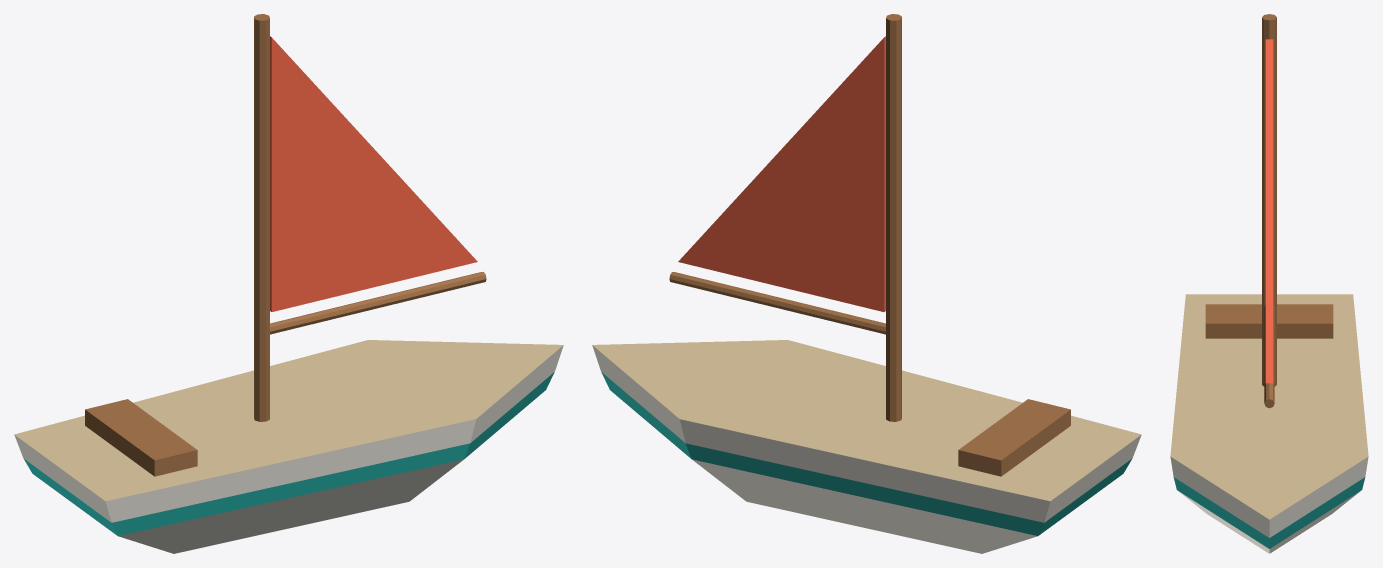
Rendered from sailboat.glb.
3 views of the same model, side by side, from view 1: azimuth 30°, elevation 25°; view 2: azimuth 150°, elevation 25°; view 3: azimuth 270°, elevation 25° (orthographic). The views are drawn at different scales.
Visible parts, largest first — view 1: White hull with teal stripe, Single coral triangular sail, Wooden mast, Simple wooden stern seat, Wooden boom; view 2: White hull with teal stripe, Single coral triangular sail, Wooden mast, Simple wooden stern seat, Wooden boom; view 3: White hull with teal stripe, Simple wooden stern seat, Single coral triangular sail, Wooden mast, Wooden boom.
Boxes of the visible parts, x1,y1,x2,y2 form: White hull with teal stripe: (14,340,563,553); Single coral triangular sail: (270,36,477,311); Wooden mast: (254,14,269,421); Simple wooden stern seat: (85,399,197,476); Wooden boom: (270,272,486,334); White hull with teal stripe: (592,340,1141,553); Single coral triangular sail: (678,36,885,311); Wooden mast: (886,14,901,421); Simple wooden stern seat: (958,399,1070,476); Wooden boom: (669,272,885,334); White hull with teal stripe: (1170,294,1368,553); Simple wooden stern seat: (1205,304,1333,338); Single coral triangular sail: (1265,39,1273,383); Wooden mast: (1262,14,1276,386); Wooden boom: (1264,305,1274,408).
Size of the model in its own units: 2.59 by 2.39 by 0.9629.
